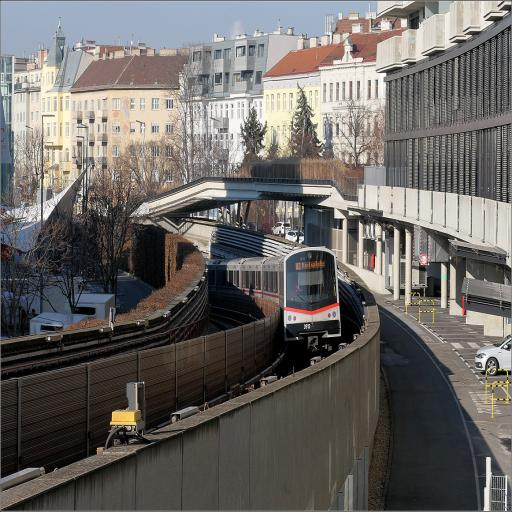V-Wagen: (240, 244, 342, 336)
